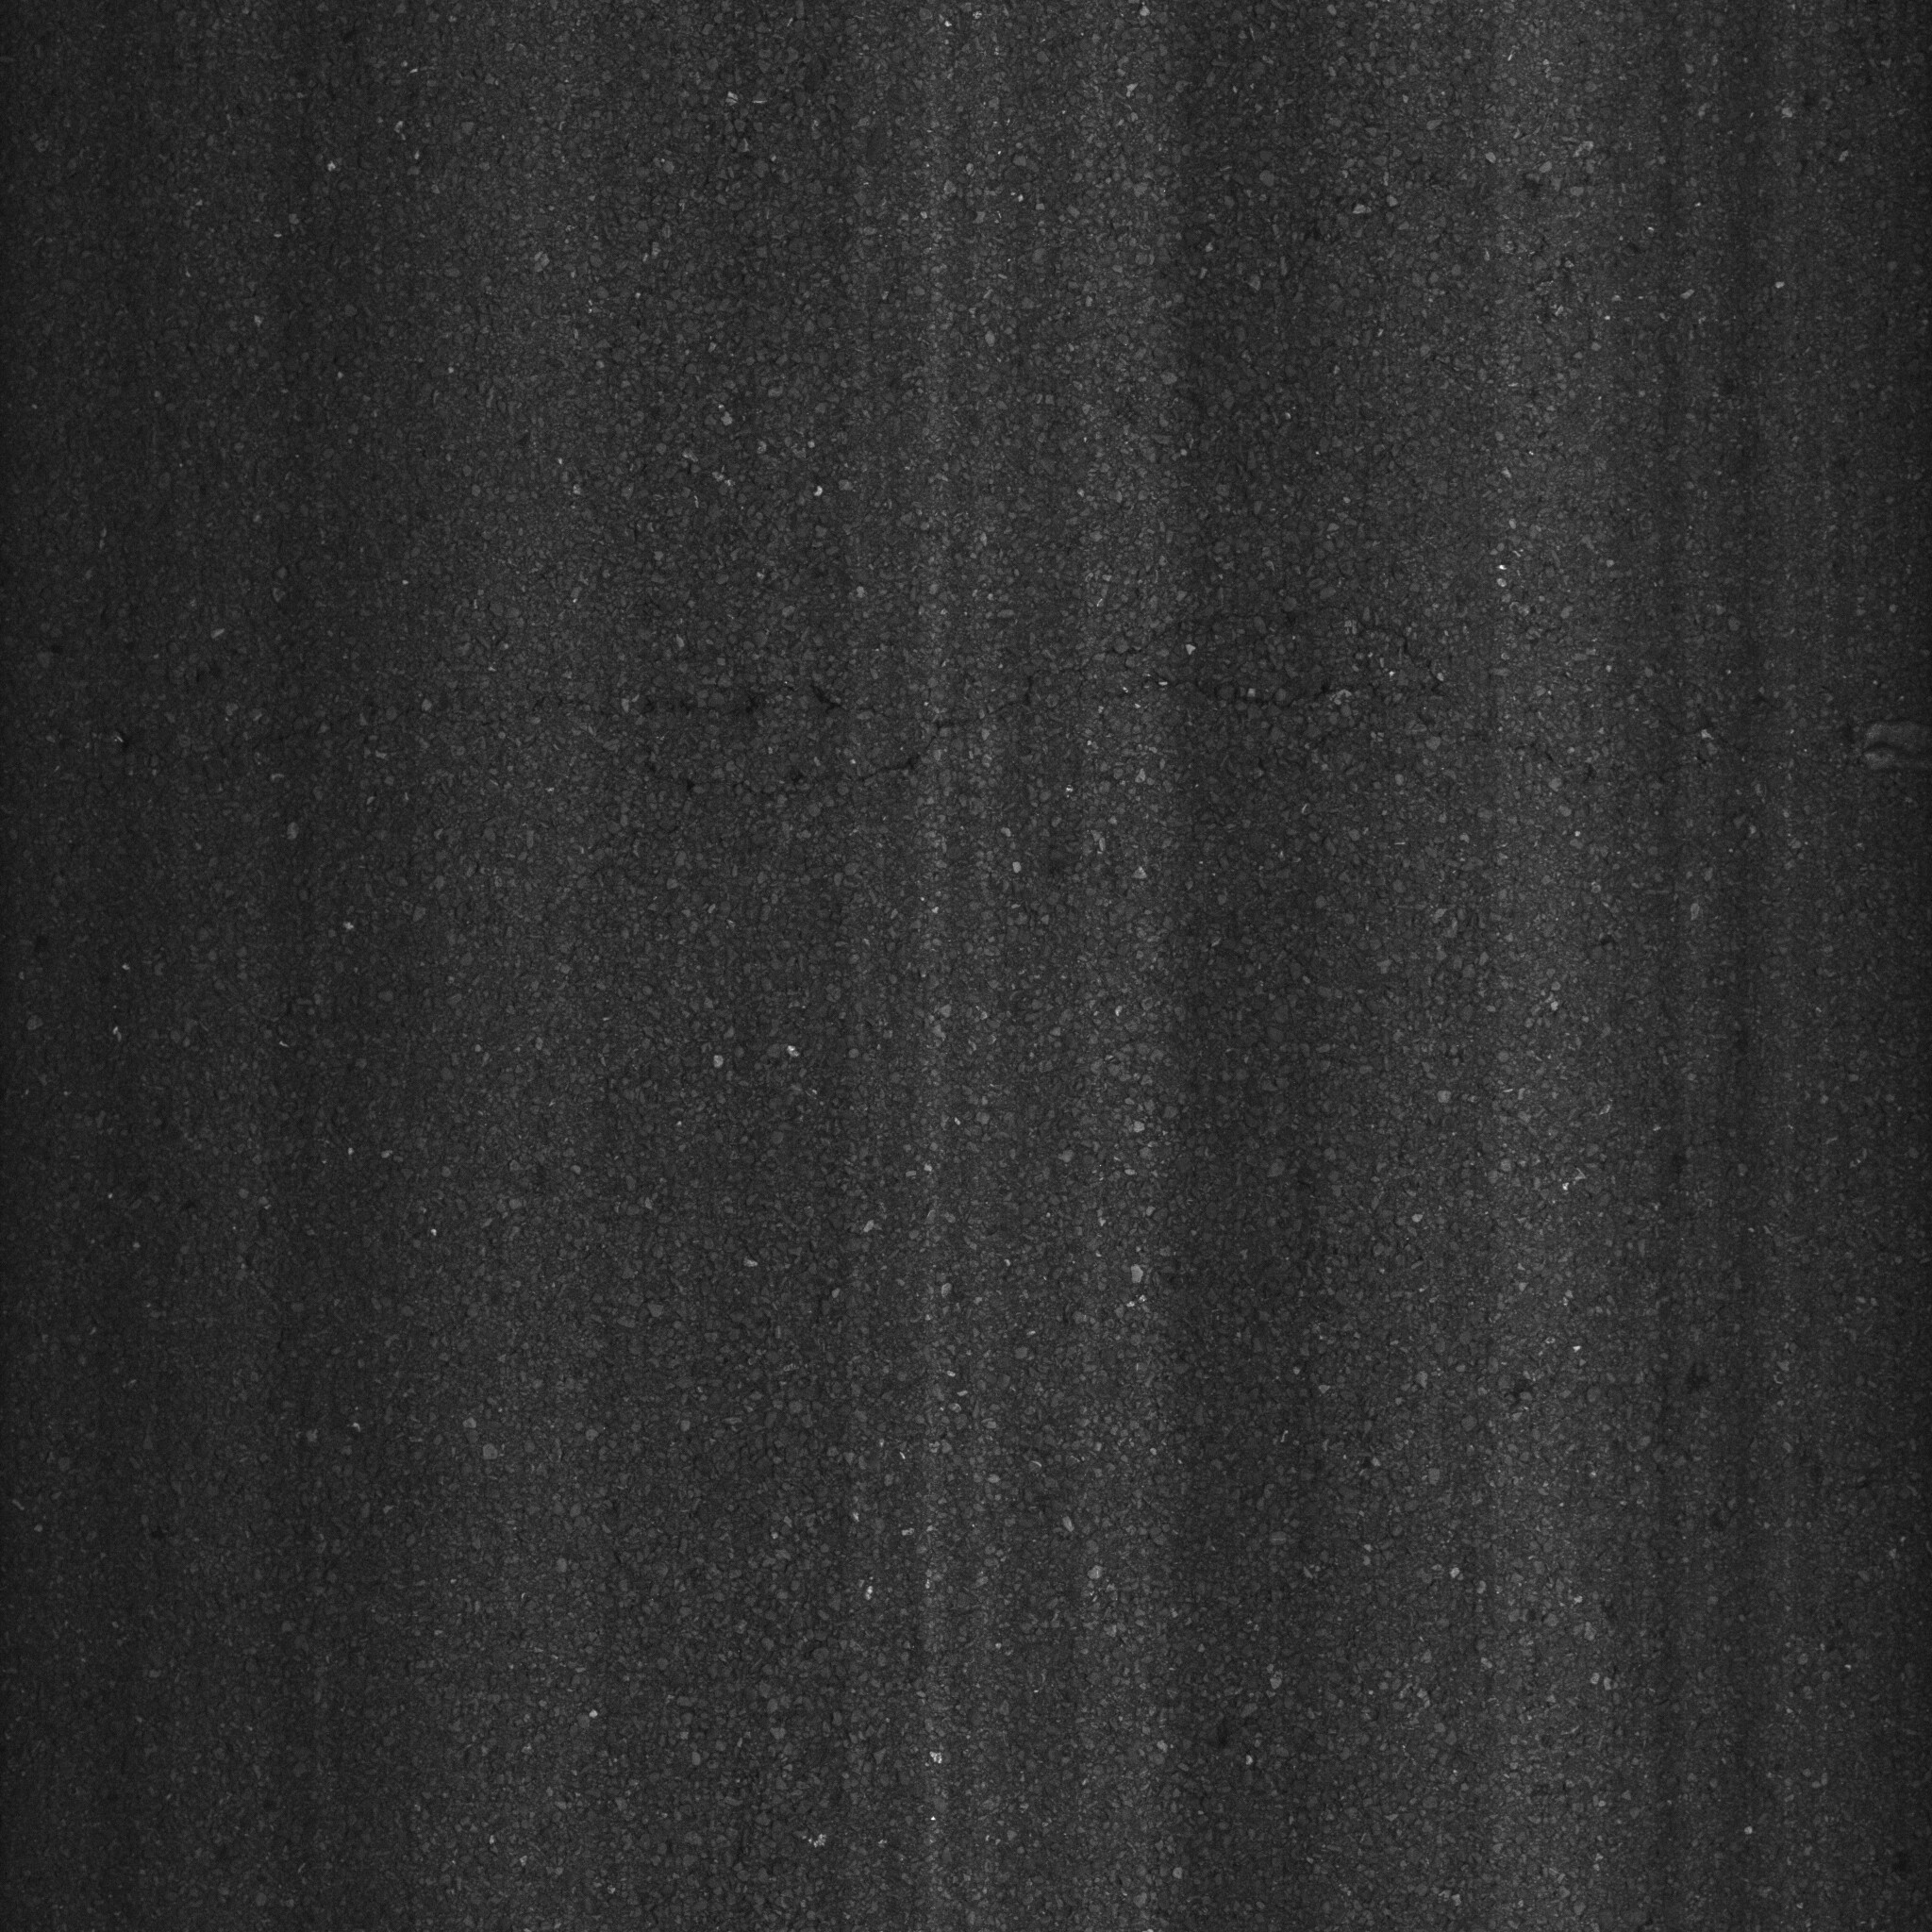transverse: (200, 617, 1601, 855)
